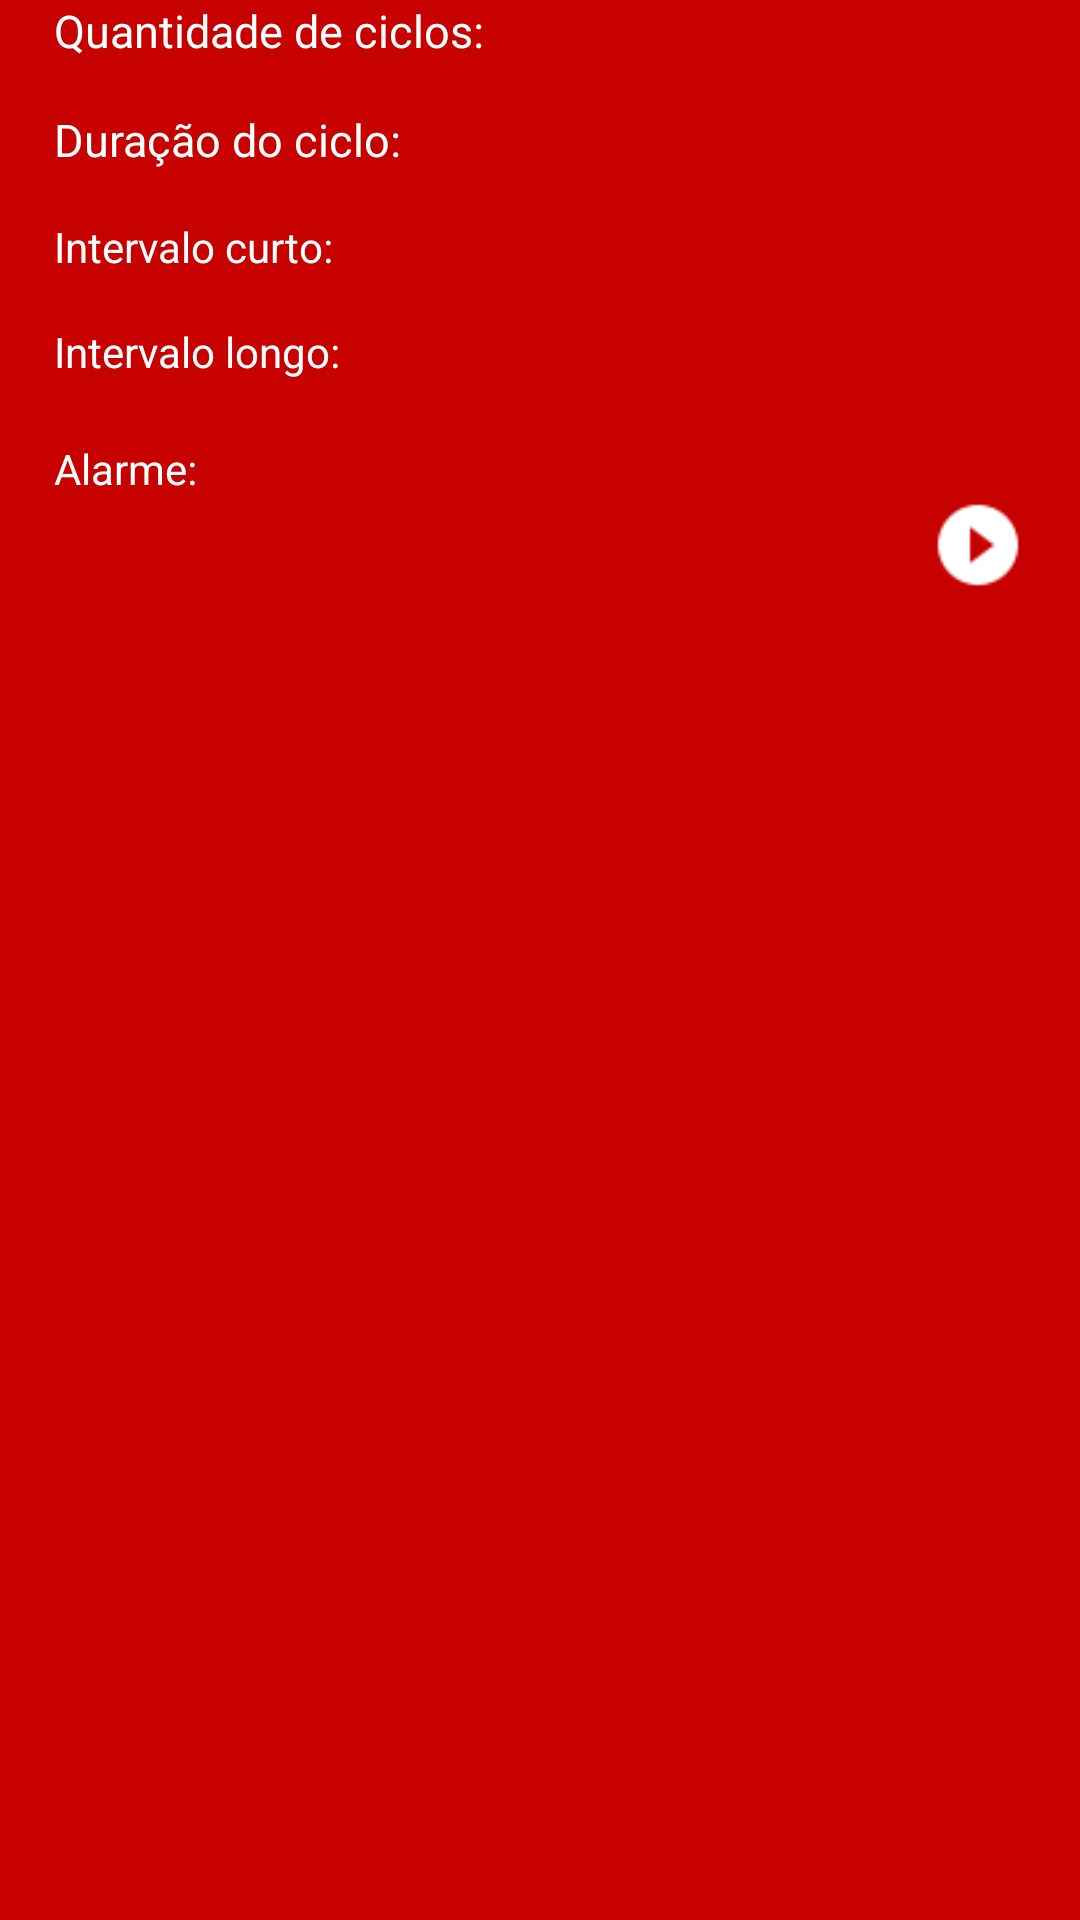

Named icons in this screenshot (1080*1920) and their centers, point (x, y):
play circle: point (978, 545)
